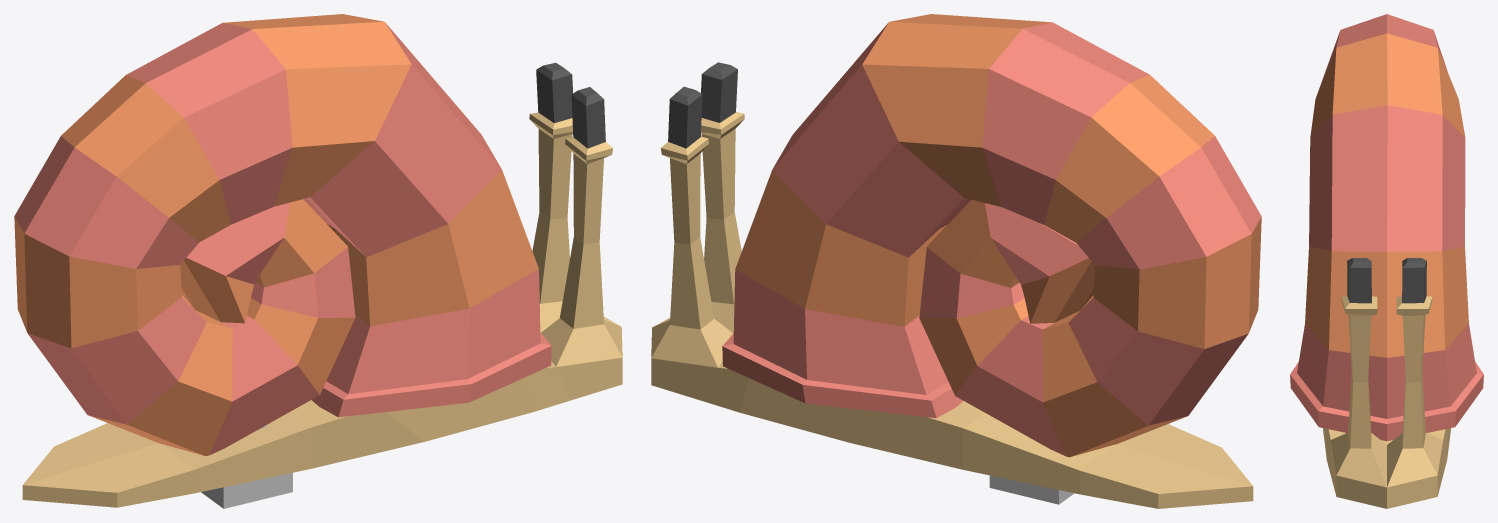
Rendered from gastropod.fbx.
3 renders of one model, left to right at view 1: azimuth 30°, elevation 25°; view 2: azimuth 150°, elevation 25°; view 3: azimuth 270°, elevation 25°, orthographic. The views are drawn at different scales.
Visible parts, largest first — view 1: Snail_01_Circle.001, Cube; view 2: Snail_01_Circle.001, Cube; view 3: Snail_01_Circle.001.
Boxes of the visible parts, left/top/right/bottom form: Snail_01_Circle.001: left=14, top=14, right=622, bottom=507; Cube: left=201, top=425, right=292, bottom=508; Snail_01_Circle.001: left=651, top=14, right=1261, bottom=508; Cube: left=989, top=475, right=1073, bottom=504; Snail_01_Circle.001: left=1290, top=14, right=1483, bottom=508.
Size of the model in its own units: 1735 by 1245 by 609.
